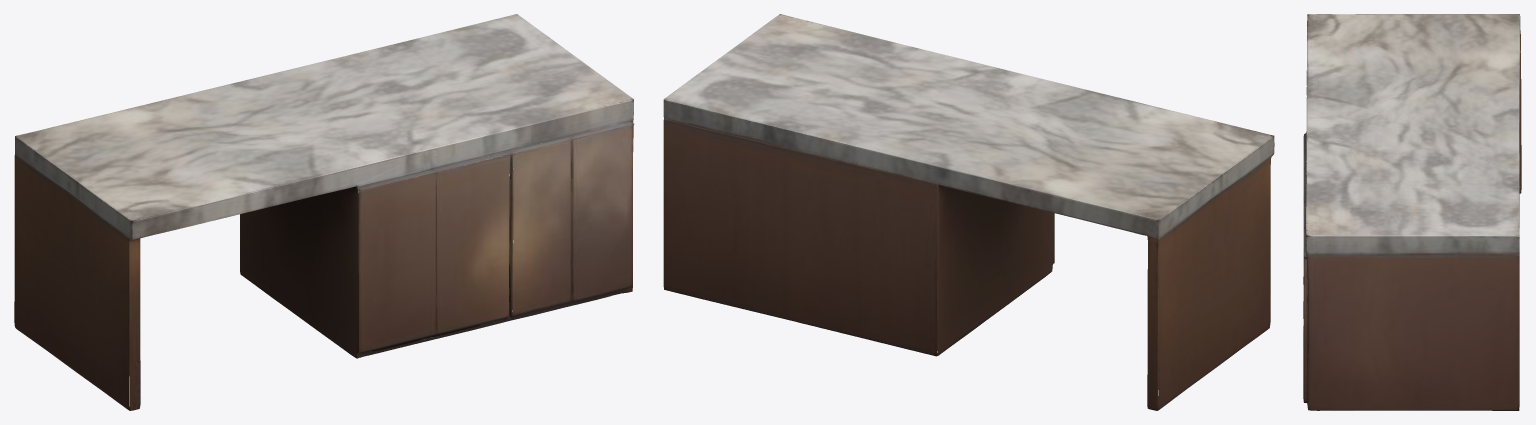
The model's file is m-ilot.glb.
The picture shows the model from 3 angles, left to right: view 1: azimuth 30°, elevation 25°; view 2: azimuth 150°, elevation 25°; view 3: azimuth 270°, elevation 25°; orthographic projection. The views are drawn at different scales.
Visible parts, largest first — view 1: geometry_0; view 2: geometry_0; view 3: geometry_0.
Part boxes in pixels (left/top/right/bottom): geometry_0: left=14, top=14, right=634, bottom=410; geometry_0: left=663, top=14, right=1274, bottom=410; geometry_0: left=1303, top=14, right=1521, bottom=410.
Size of the model in its own units: 1 by 0.3685 by 0.4147.
1 material, 1 textured.
